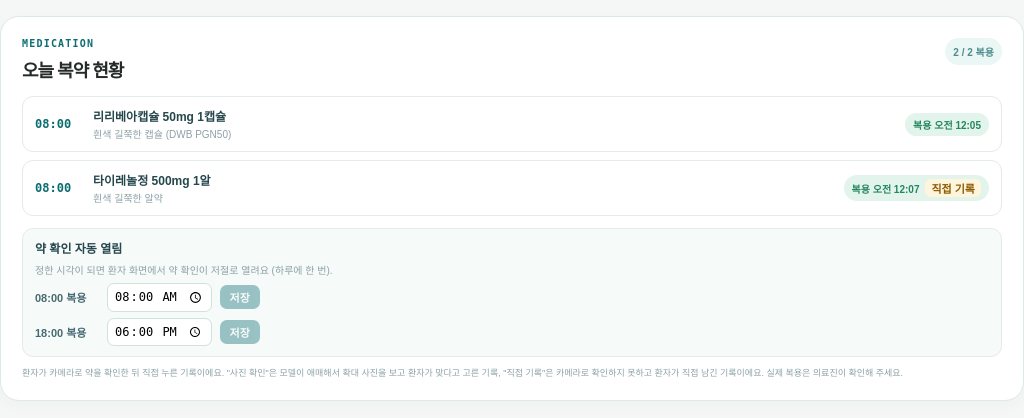
Scenario: MedicationStatus › 복용 시간별 약 확인 자동 열림 시각을 바꿔 저장한다
This screenshot has width=1024, height=418.
Replace the text in the time field named "08:00 복용 약 확인 자동 열림 시각" with "07:50" at (159, 297), box [107, 283, 212, 312]
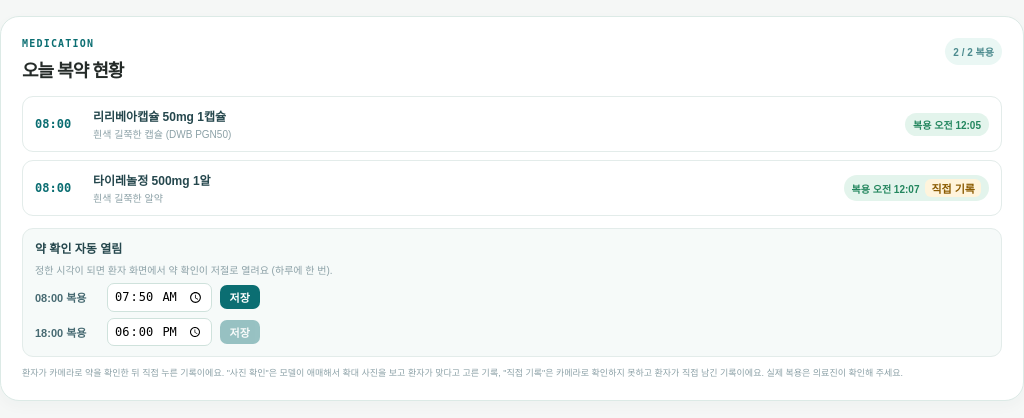
Click the 1st button "저장" at (240, 297), box [220, 285, 260, 309]
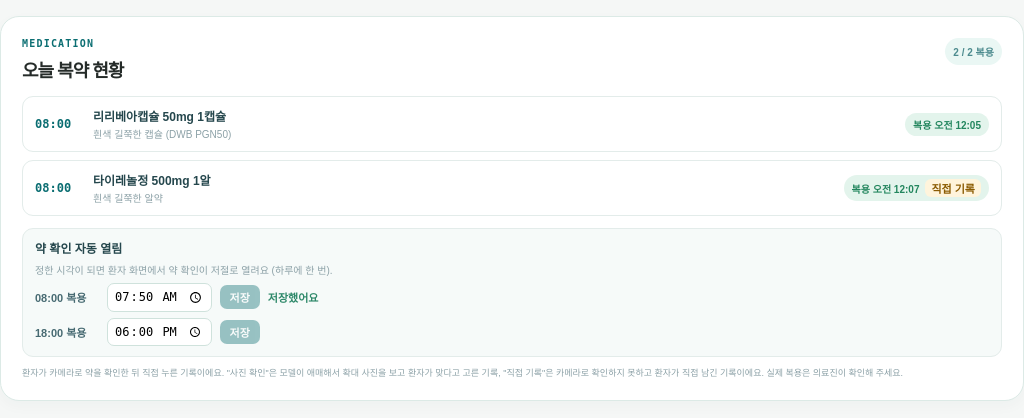
Expected: the text "저장했어요" is shown, [268, 289, 318, 305]
